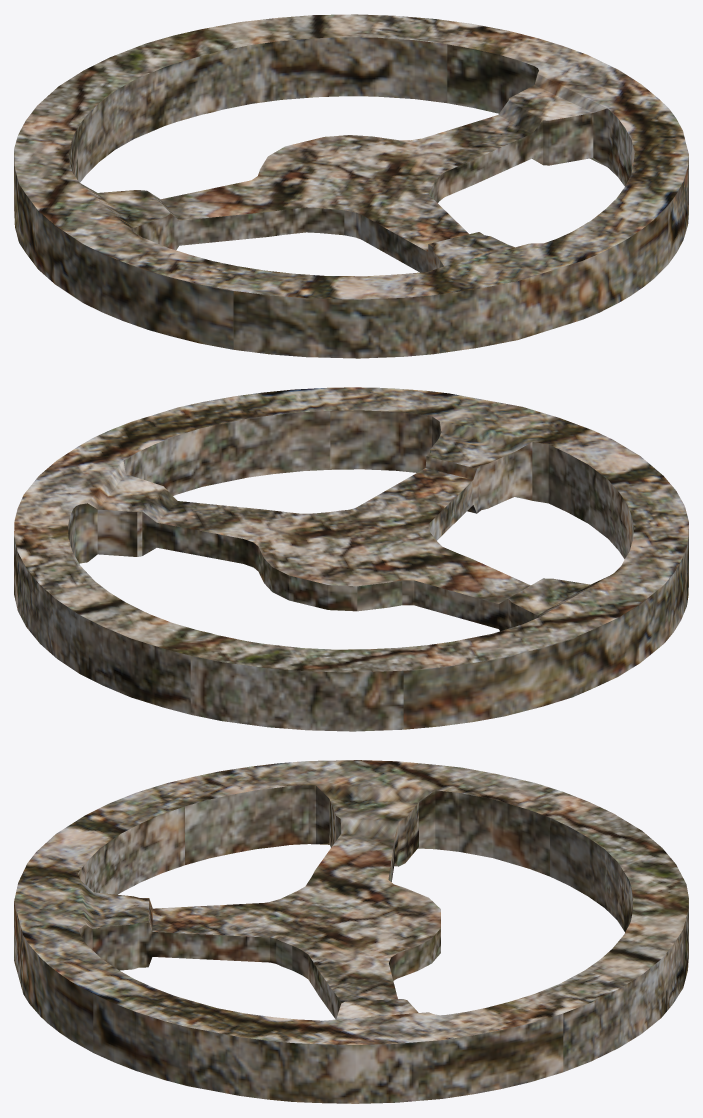
Rendered from wheel.obj.
3 renders of one model, top to bottom at view 1: azimuth 30°, elevation 25°; view 2: azimuth 150°, elevation 25°; view 3: azimuth 270°, elevation 25°, orthographic.
Parts seen in each view (by area): view 1: Cube.001; view 2: Cube.001; view 3: Cube.001.
Part boxes in pixels (x1,y1,x2,y2): Cube.001: (14, 14, 688, 358); Cube.001: (14, 387, 688, 731); Cube.001: (14, 760, 688, 1103).
Size of the model in its own units: 9.56 by 0.9213 by 9.57.
